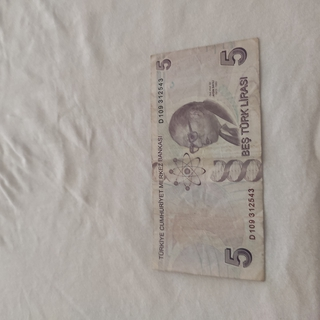5TLBack: (149, 35, 266, 283)
